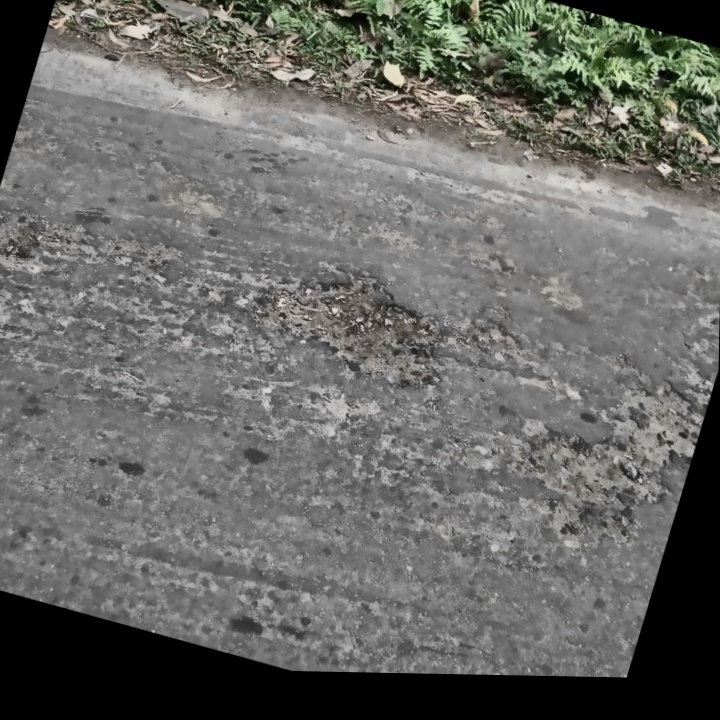pothole: (240, 247, 461, 397), (507, 418, 681, 535), (616, 376, 711, 459)
